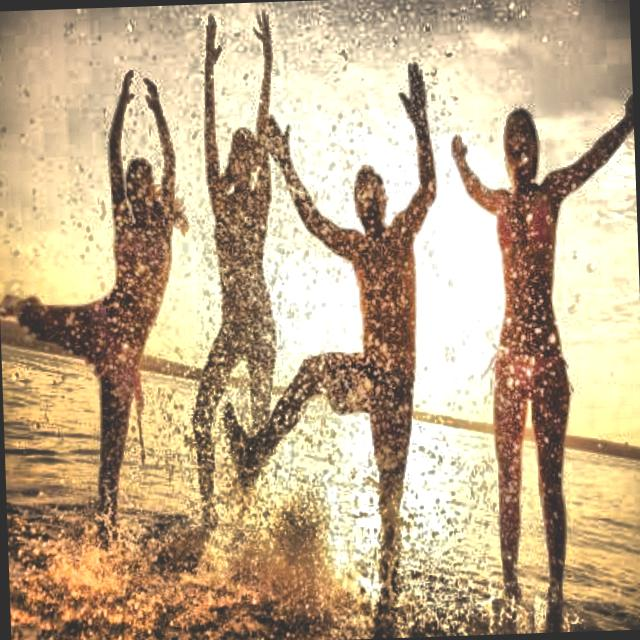happy: (489, 90, 554, 207), (334, 144, 403, 248), (195, 8, 234, 72)
